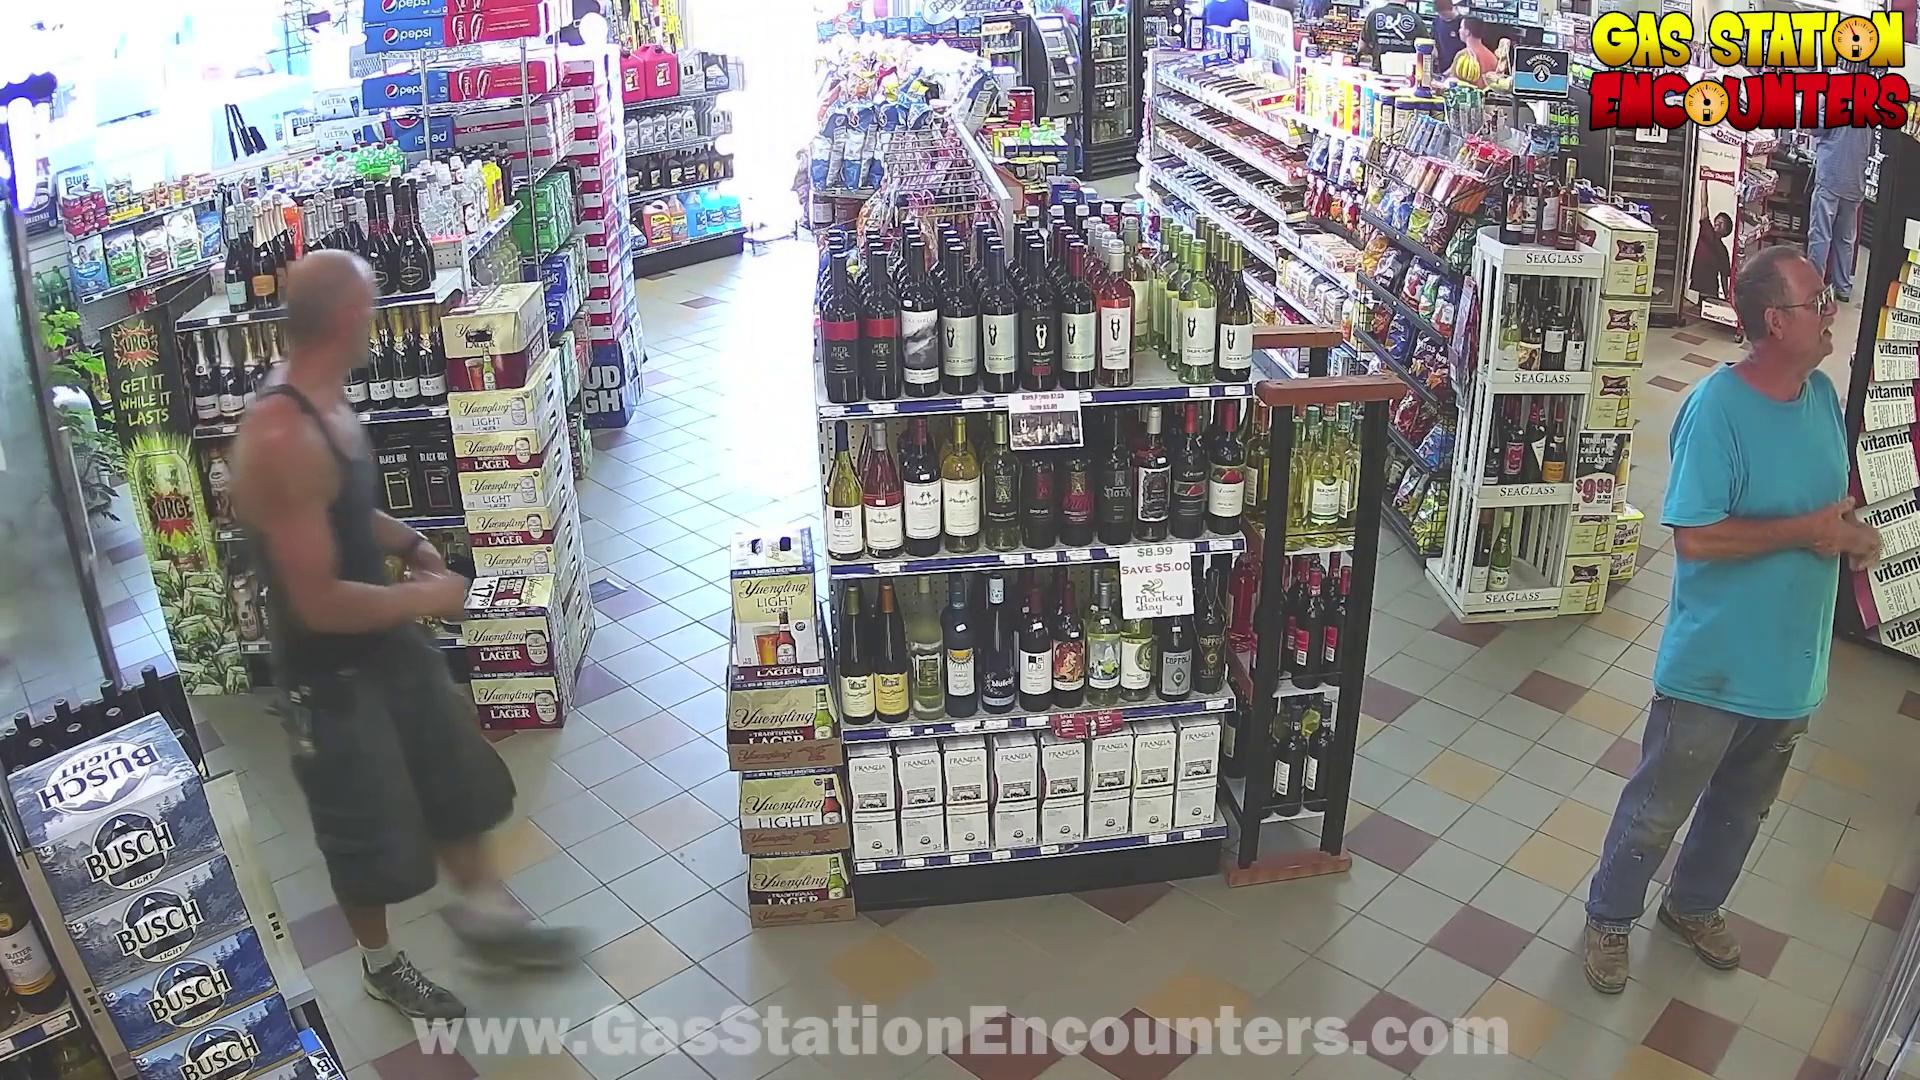Product: (406, 533, 483, 640)
Product-Picked: (169, 222, 592, 1080)
Regular: (1561, 215, 1920, 976)
